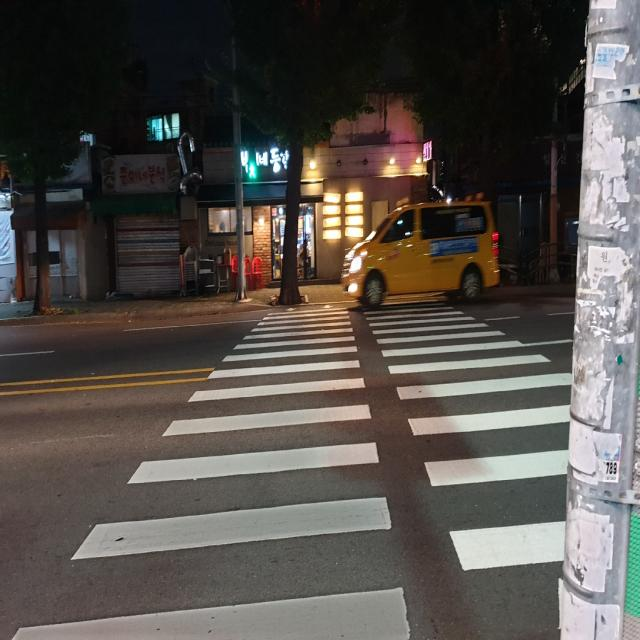횡단보도: (11, 304, 572, 639)
